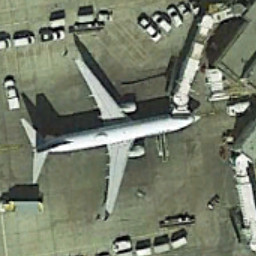Airplane: (12, 49, 205, 223)
